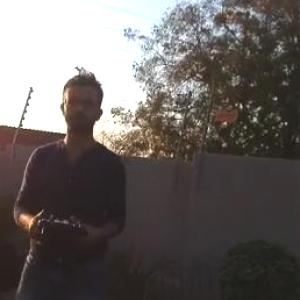follow: (3, 65, 132, 299)
